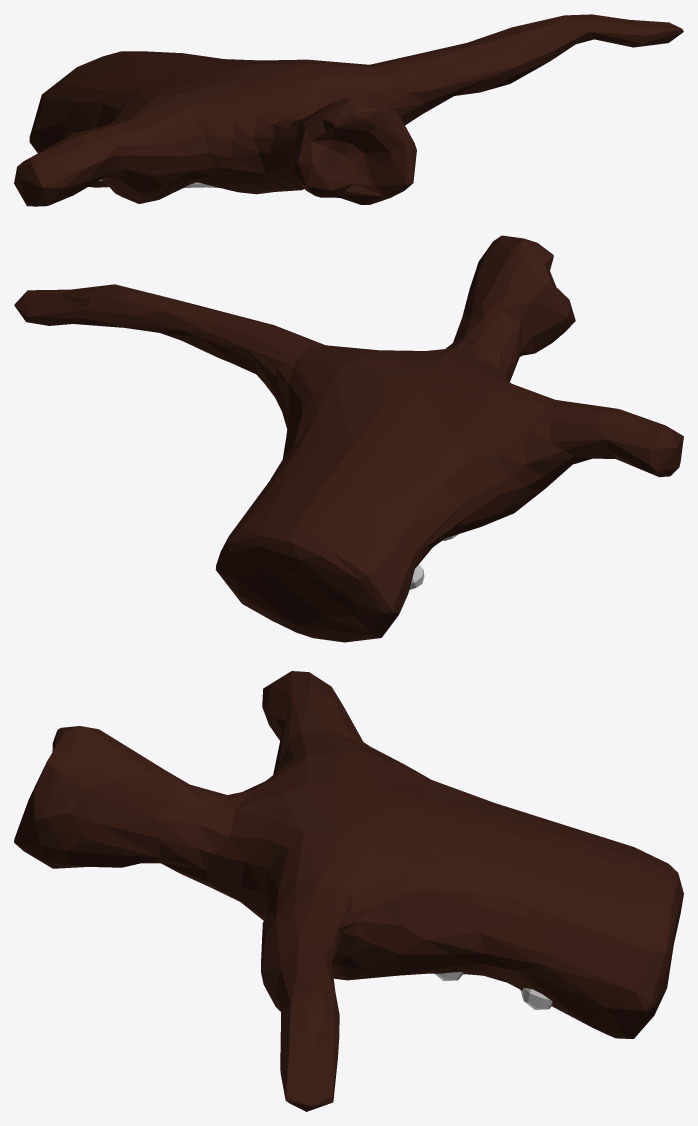
Rendered from zombieee half follower.obj.
3 views of the same model, one above another, from view 1: azimuth 30°, elevation 25°; view 2: azimuth 150°, elevation 25°; view 3: azimuth 270°, elevation 25° (orthographic). The views are drawn at different scales.
Visible parts, largest first — view 1: Cube.029; view 2: Cube.029; view 3: Cube.029.
Boxes of the visible parts, x1=… form: Cube.029: x1=14, y1=14, x2=683, y2=206; Cube.029: x1=14, y1=235, x2=683, y2=642; Cube.029: x1=14, y1=671, x2=683, y2=1111.
Size of the model in its own units: 2.21 by 0.7627 by 1.54.
